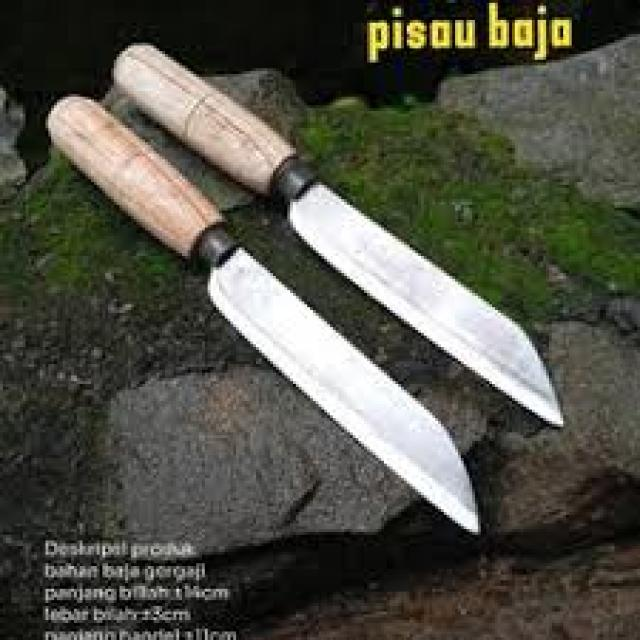Knife: (48, 94, 478, 529), (114, 43, 563, 421)
